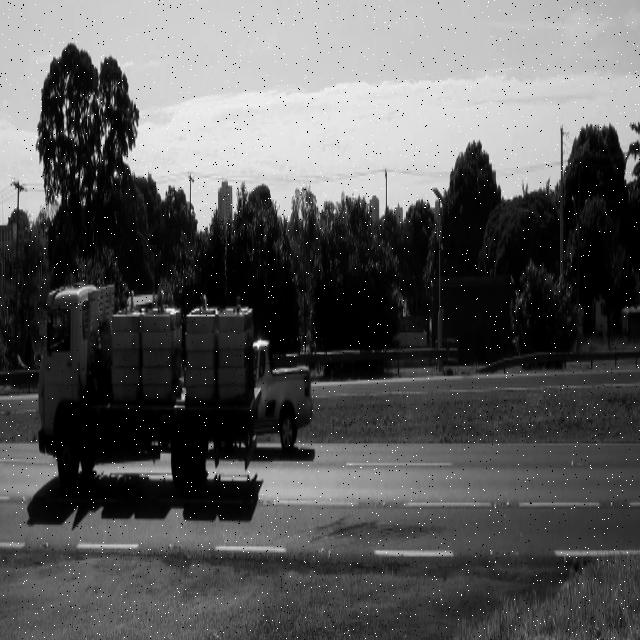-axle: (168, 423, 202, 500), (54, 415, 81, 491)
